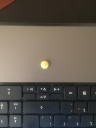Nurofen: (40, 60, 50, 69)
